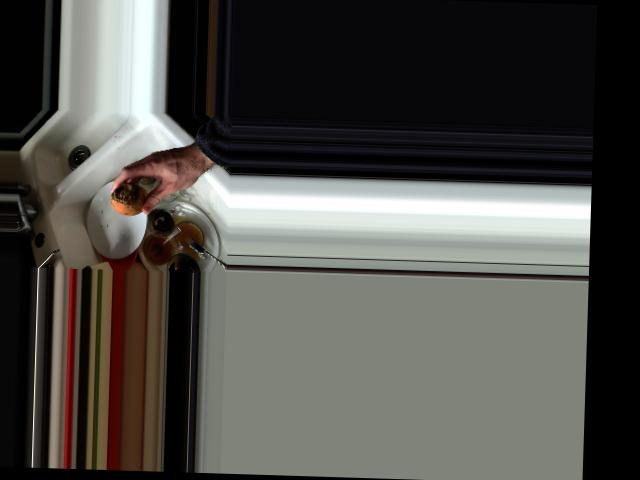sweet_potato: (108, 180, 154, 217)
